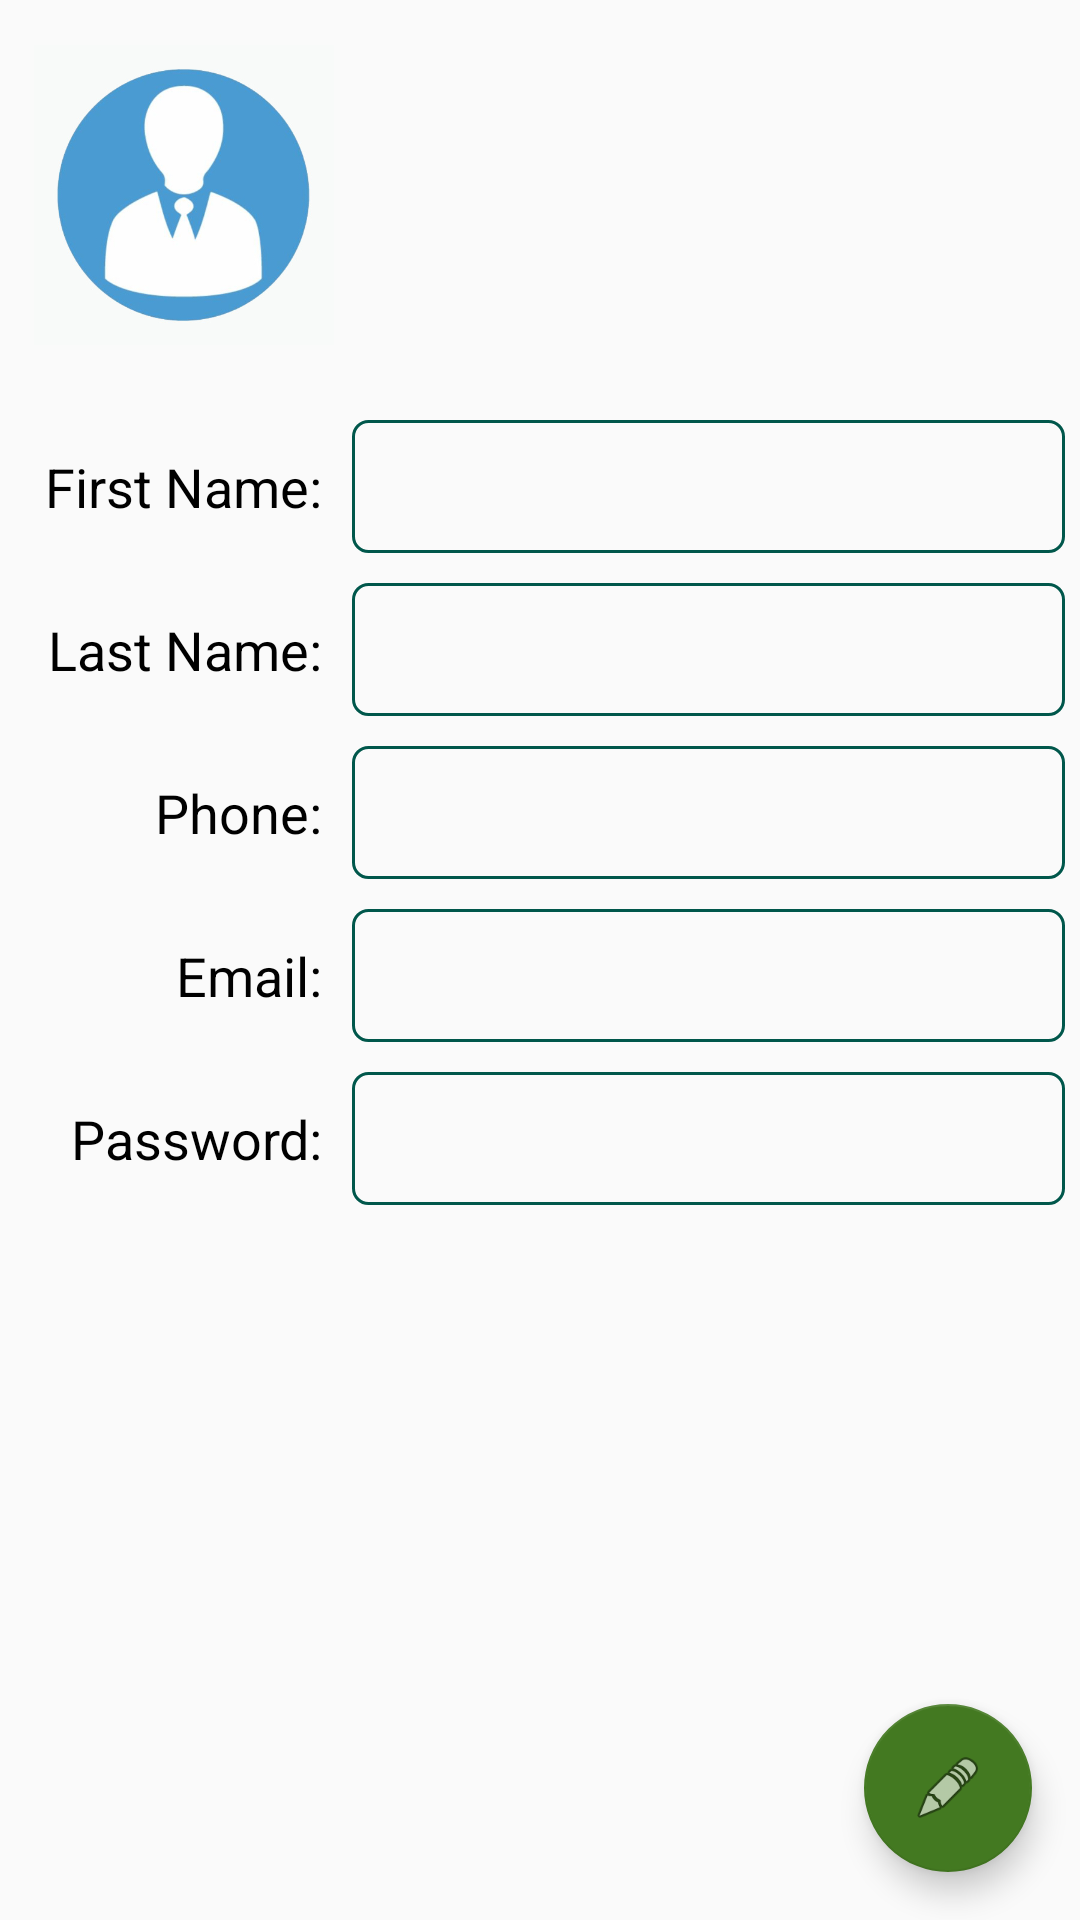

Icons on this 1080 x 1920 Android screen, each with the point to tap as point (x, y):
edit: point (948, 1788)
My Account: point (183, 195)
